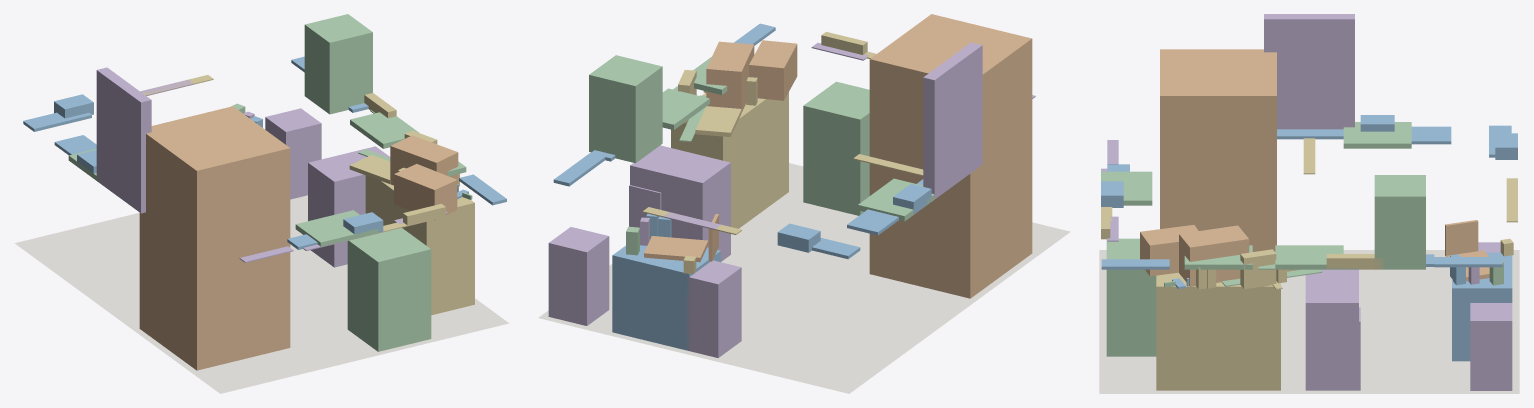
File: layout.glb
3 views of the same model, side by side, from view 1: azimuth 30°, elevation 25°; view 2: azimuth 150°, elevation 25°; view 3: azimuth 270°, elevation 25° (orthographic). The views are drawn at different scales.
Visible parts, largest first — view 1: obj_0007, room_extent_proxy, obj_0001, obj_0031, obj_0003, obj_0047, obj_0000, obj_0005, obj_0043, obj_0042, obj_0037, obj_0048 (+8 smaller); view 2: obj_0007, room_extent_proxy, obj_0001, obj_0031, obj_0003, obj_0047, obj_0002, obj_0000, obj_0005, obj_0006, obj_0042, obj_0043 (+14 smaller); view 3: obj_0007, room_extent_proxy, obj_0003, obj_0031, obj_0000, obj_0001, obj_0047, obj_0005, obj_0002, obj_0042, obj_0043, obj_0036 (+17 smaller).
Boxes of the visible parts, x1=… form: obj_0007: x1=139, y1=106, x2=290, y2=370; room_extent_proxy: x1=15, y1=195, x2=509, y2=393; obj_0001: x1=347, y1=228, x2=431, y2=351; obj_0031: x1=96, y1=67, x2=151, y2=213; obj_0003: x1=365, y1=175, x2=474, y2=315; obj_0047: x1=304, y1=14, x2=372, y2=114; obj_0000: x1=308, y1=146, x2=390, y2=267; obj_0005: x1=265, y1=108, x2=321, y2=199; obj_0043: x1=394, y1=164, x2=457, y2=220; obj_0042: x1=390, y1=135, x2=458, y2=185; obj_0037: x1=295, y1=210, x2=378, y2=247; obj_0048: x1=350, y1=112, x2=419, y2=148; obj_0007: x1=869, y1=14, x2=1032, y2=298; room_extent_proxy: x1=538, y1=163, x2=1070, y2=393; obj_0001: x1=803, y1=81, x2=869, y2=215; obj_0031: x1=923, y1=42, x2=982, y2=199; obj_0003: x1=671, y1=92, x2=788, y2=228; obj_0047: x1=589, y1=55, x2=662, y2=163; obj_0002: x1=612, y1=245, x2=720, y2=350; obj_0000: x1=630, y1=145, x2=730, y2=261; obj_0005: x1=548, y1=227, x2=609, y2=325; obj_0006: x1=687, y1=260, x2=741, y2=357; obj_0042: x1=706, y1=41, x2=754, y2=112; obj_0043: x1=749, y1=40, x2=797, y2=100; obj_0007: x1=1160, y1=49, x2=1276, y2=251; room_extent_proxy: x1=1099, y1=250, x2=1519, y2=393; obj_0003: x1=1156, y1=272, x2=1280, y2=390; obj_0031: x1=1264, y1=14, x2=1354, y2=129; obj_0000: x1=1305, y1=269, x2=1358, y2=390; obj_0001: x1=1106, y1=238, x2=1156, y2=356; obj_0047: x1=1374, y1=175, x2=1425, y2=269; obj_0005: x1=1470, y1=303, x2=1512, y2=390; obj_0002: x1=1452, y1=252, x2=1512, y2=361; obj_0042: x1=1179, y1=225, x2=1249, y2=286; obj_0043: x1=1140, y1=225, x2=1198, y2=276; obj_0036: x1=1343, y1=122, x2=1411, y2=148.
Bounding box in the file's own units: 3 × 2.3 × 3.7.
